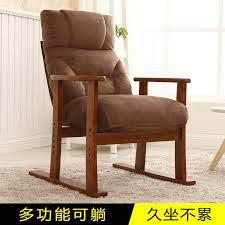chair: (28, 0, 206, 190)
